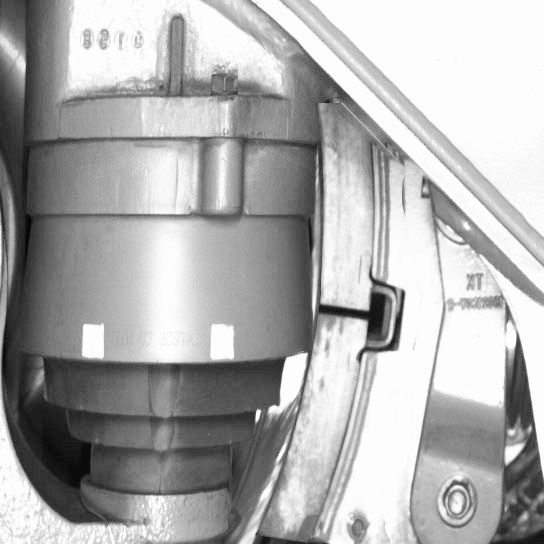ClosedKnifeSwitch: (250, 139, 369, 542)
